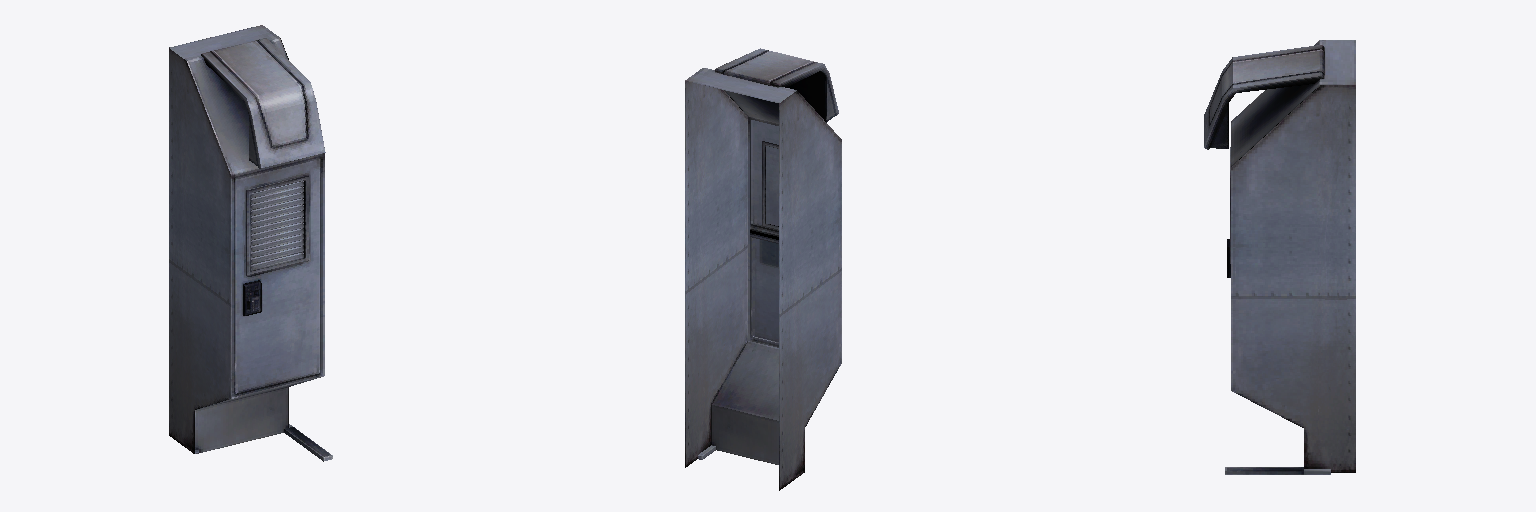
3 renders of one model, left to right at view 1: azimuth 30°, elevation 25°; view 2: azimuth 150°, elevation 25°; view 3: azimuth 270°, elevation 25°, orthographic.
Bounding box in the file's own units: 0.64 × 2.42 × 0.8581.
1 materials, 1 textured.